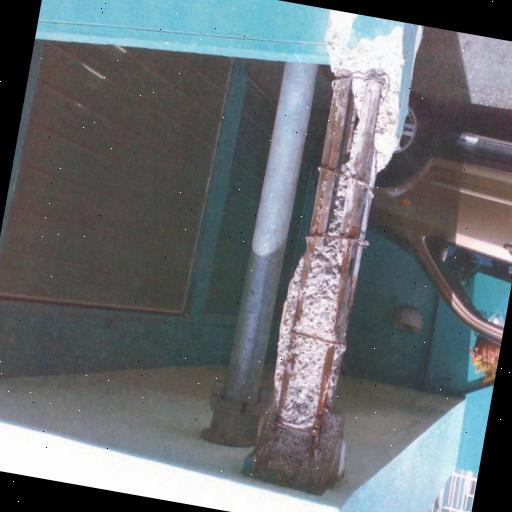spalling: (248, 58, 408, 490)
